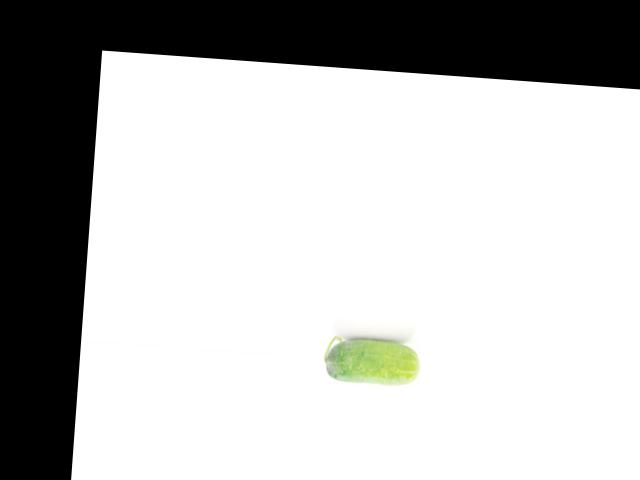cucumber: (323, 334, 423, 387)
